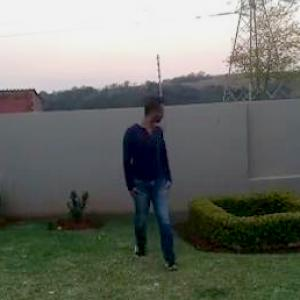follow: (124, 91, 178, 279)
